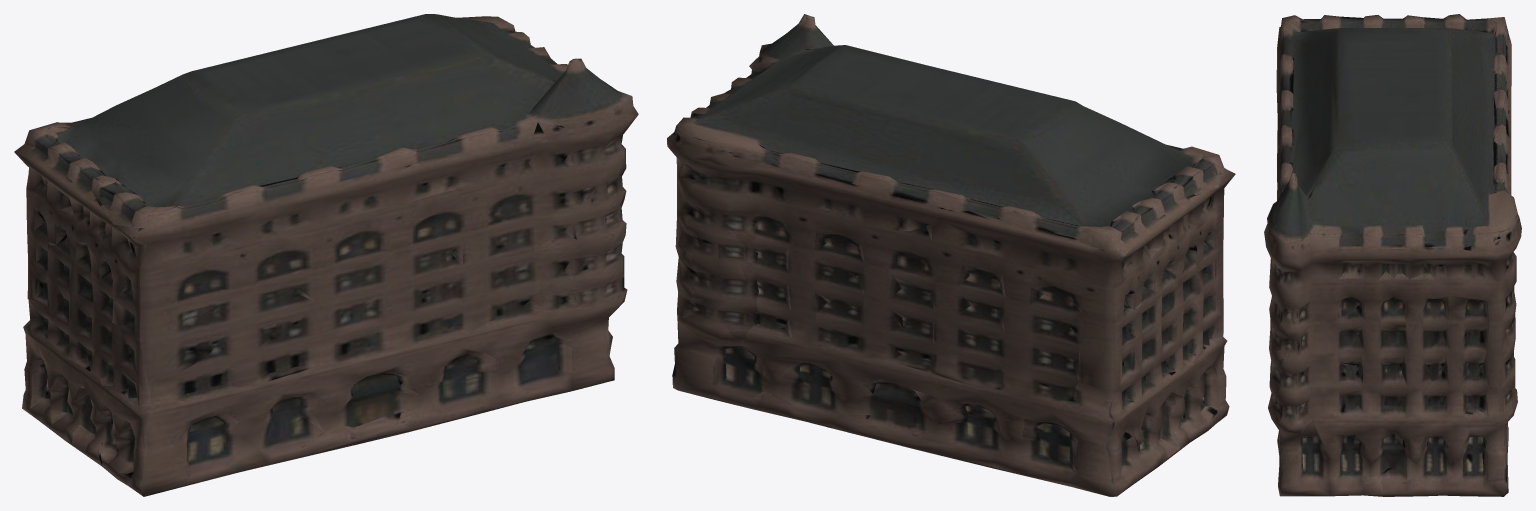
Rendered from chicago_club.glb.
3 views of the same model, side by side, from view 1: azimuth 30°, elevation 25°; view 2: azimuth 150°, elevation 25°; view 3: azimuth 270°, elevation 25° (orthographic). The views are drawn at different scales.
Visible parts, largest first — view 1: chicago_club; view 2: chicago_club; view 3: chicago_club.
Part boxes in pixels (x1,y1,x2,y2): chicago_club: [14, 14, 638, 496]; chicago_club: [667, 14, 1235, 496]; chicago_club: [1264, 14, 1521, 496].
Bounding box in the file's own units: 52 × 32 × 24.
1 material, 1 textured.
